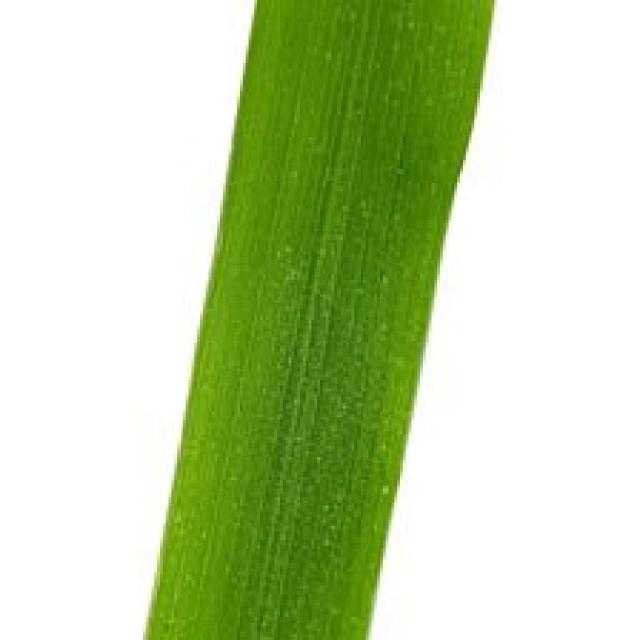Rice___Healthy_Rice_Plant: (146, 3, 496, 637)
